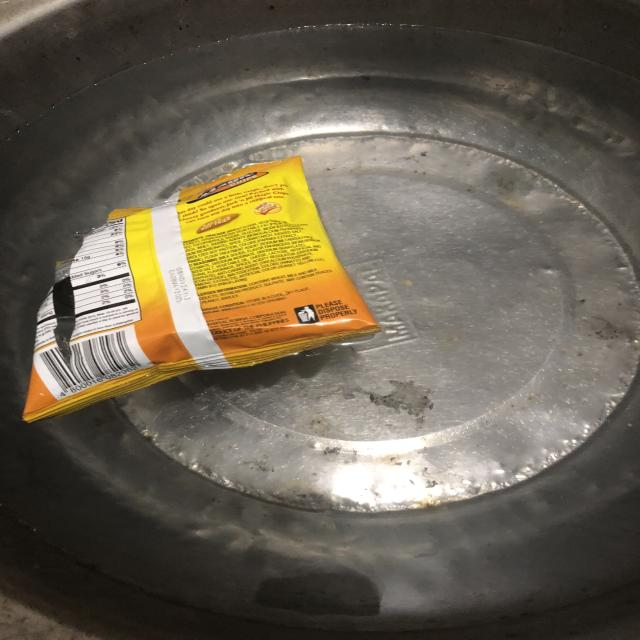Plastic Wrapper: (23, 156, 380, 421)
